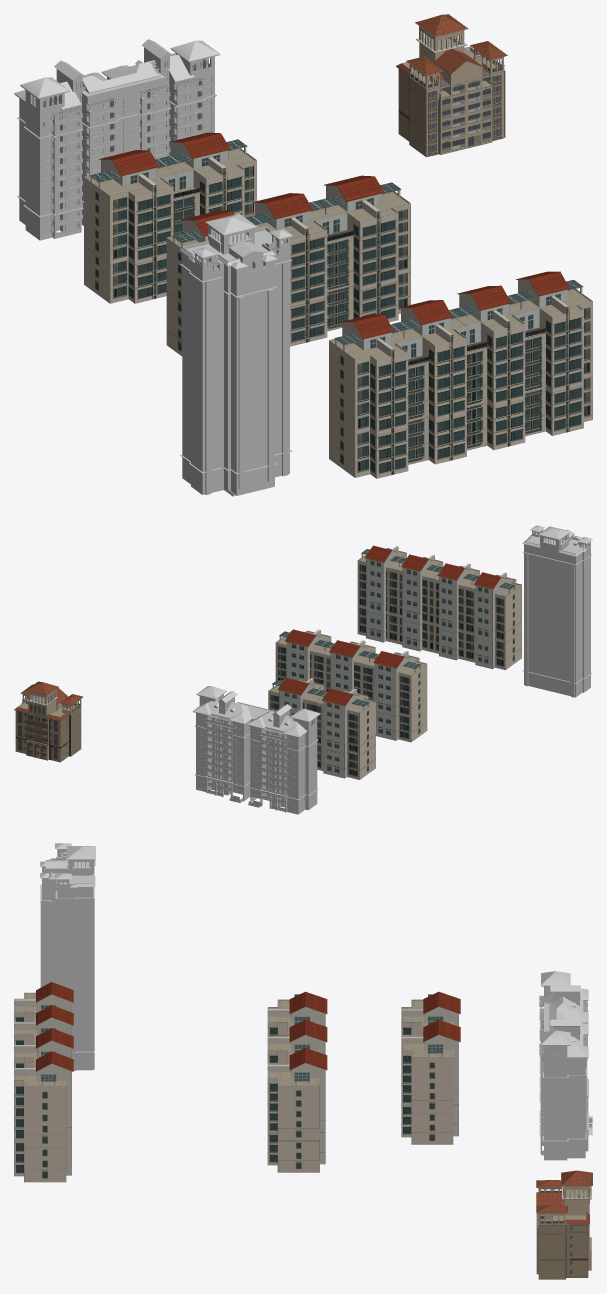
File: xiaoqu5#.FBX
3 renders of one model, top to bottom at view 1: azimuth 30°, elevation 25°; view 2: azimuth 150°, elevation 25°; view 3: azimuth 270°, elevation 25°, orthographic. The views are drawn at different scales.
Visible parts, largest first — view 1: xiaoqu5#-6, xiaoqu5#-5, xiaoqu5#-2, xiaoqu5#-4, xiaoqu5#-3, xiaoqu5#-1; view 2: xiaoqu5#-6, xiaoqu5#-2, xiaoqu5#-5, xiaoqu5#-4, xiaoqu5#-3, xiaoqu5#-1; view 3: xiaoqu5#-6, xiaoqu5#-4, xiaoqu5#-5, xiaoqu5#-2, xiaoqu5#-3, xiaoqu5#-1.
Part boxes in pixels (x1=…): xiaoqu5#-6: x1=329, y1=271, x2=592, y2=478; xiaoqu5#-5: x1=179, y1=213, x2=292, y2=496; xiaoqu5#-2: x1=14, y1=39, x2=220, y2=240; xiaoqu5#-4: x1=166, y1=175, x2=410, y2=356; xiaoqu5#-3: x1=84, y1=132, x2=256, y2=303; xiaoqu5#-1: x1=396, y1=14, x2=507, y2=157; xiaoqu5#-6: x1=357, y1=545, x2=521, y2=669; xiaoqu5#-2: x1=192, y1=686, x2=320, y2=814; xiaoqu5#-5: x1=522, y1=525, x2=592, y2=697; xiaoqu5#-4: x1=275, y1=629, x2=427, y2=742; xiaoqu5#-3: x1=268, y1=678, x2=375, y2=779; xiaoqu5#-1: x1=14, y1=681, x2=83, y2=762; xiaoqu5#-6: x1=14, y1=982, x2=73, y2=1182; xiaoqu5#-4: x1=267, y1=991, x2=327, y2=1172; xiaoqu5#-5: x1=40, y1=843, x2=95, y2=1070; xiaoqu5#-2: x1=539, y1=971, x2=592, y2=1160; xiaoqu5#-3: x1=401, y1=991, x2=460, y2=1144; xiaoqu5#-1: x1=536, y1=1170, x2=592, y2=1279.
Size of the model in its own units: 175 by 180 by 72.99.
